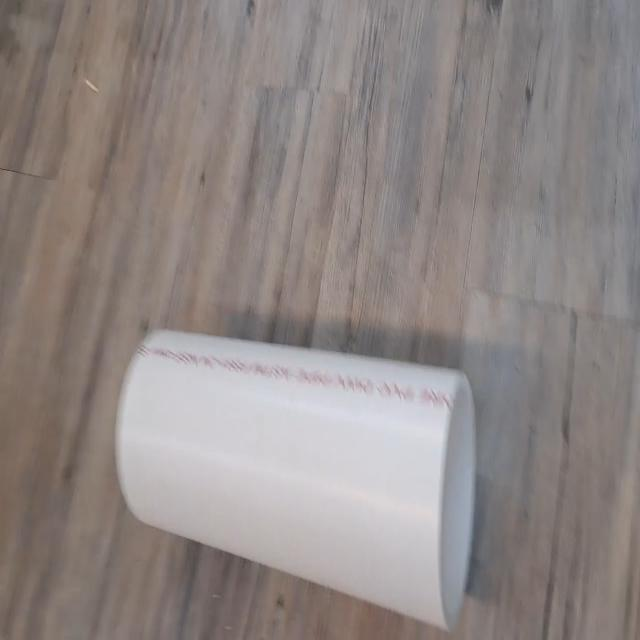CORAL: (113, 316, 480, 635)
